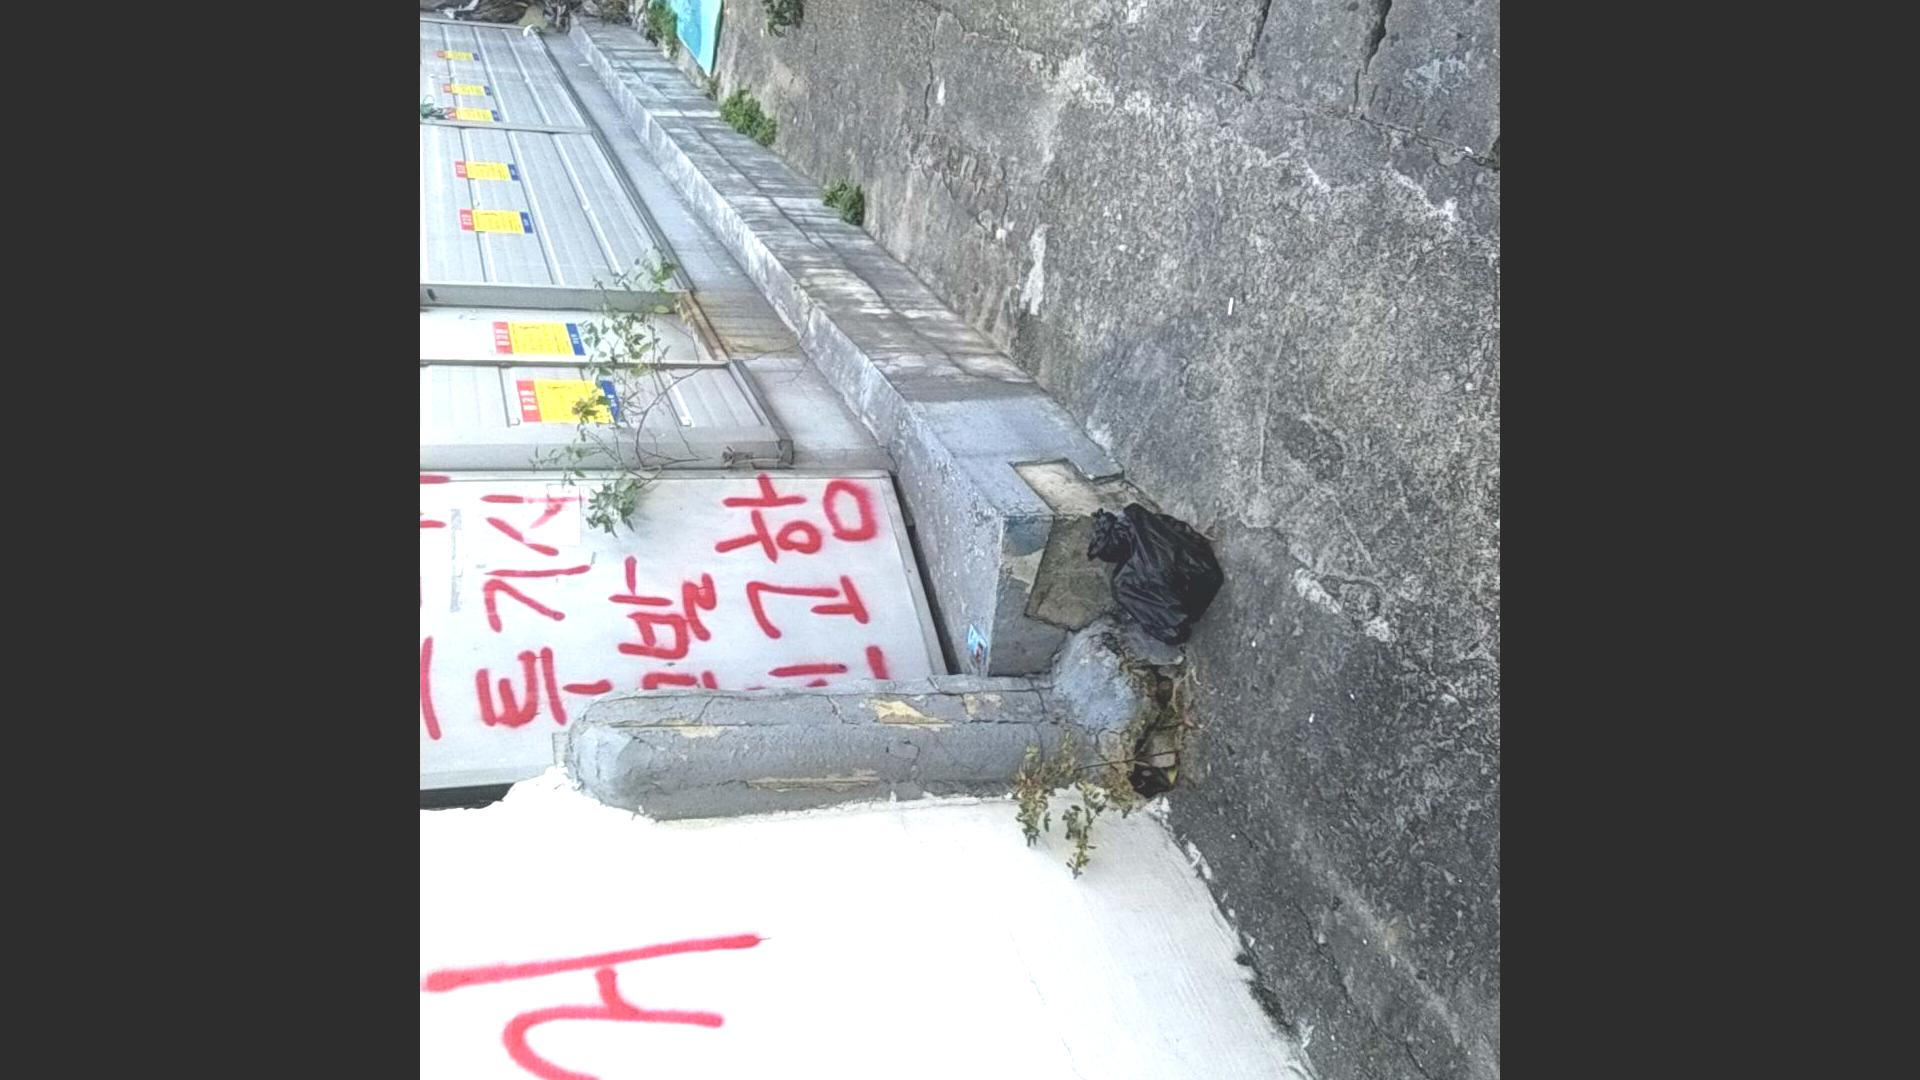black_bag: (1080, 497, 1225, 662)
